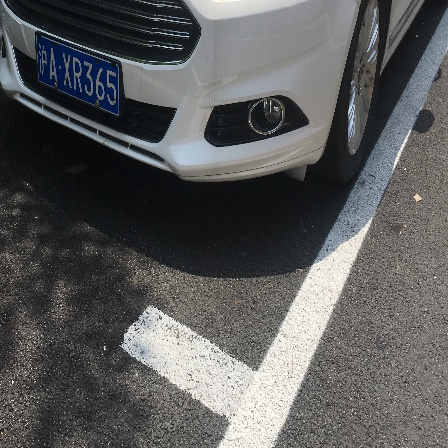plate: (30, 30, 125, 119)
